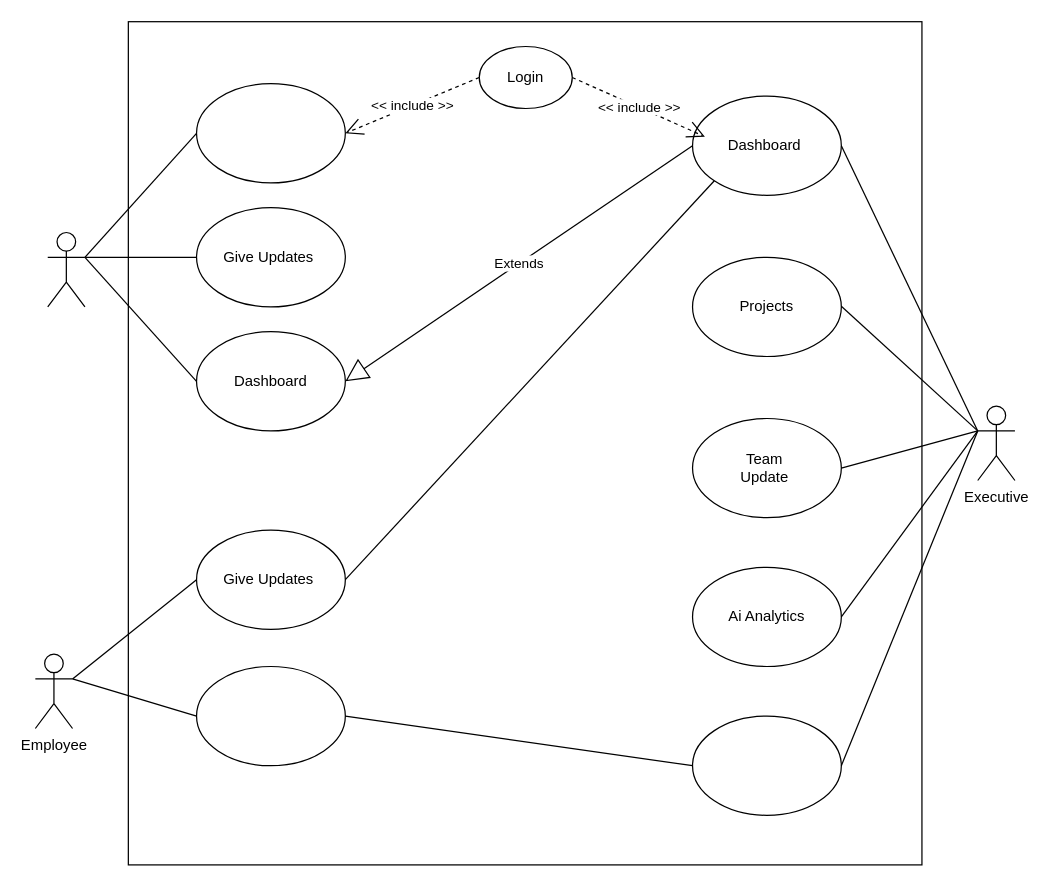
Image size: 1050x887. Some labels were removed from this diagram. Each missing label, with the box of its shape:
Assign Projects: (195, 82, 345, 183)
Manager: (46, 231, 85, 307)
Team: (691, 715, 841, 815)
Team Metrics: (195, 665, 345, 766)
